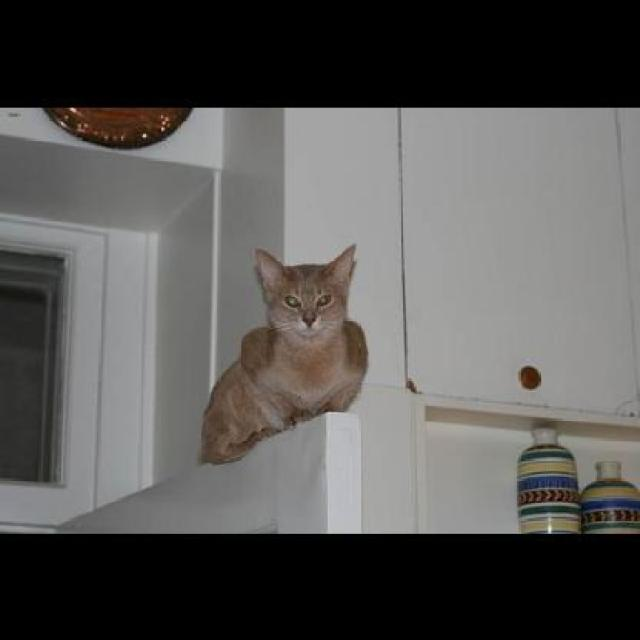unauthorized: (197, 242, 368, 464)
